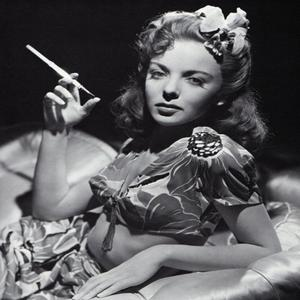cigarette: (24, 42, 98, 102)
